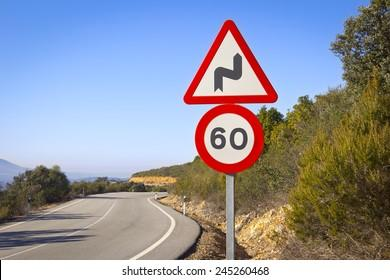Right Reverse Bend: (170, 15, 284, 105)
